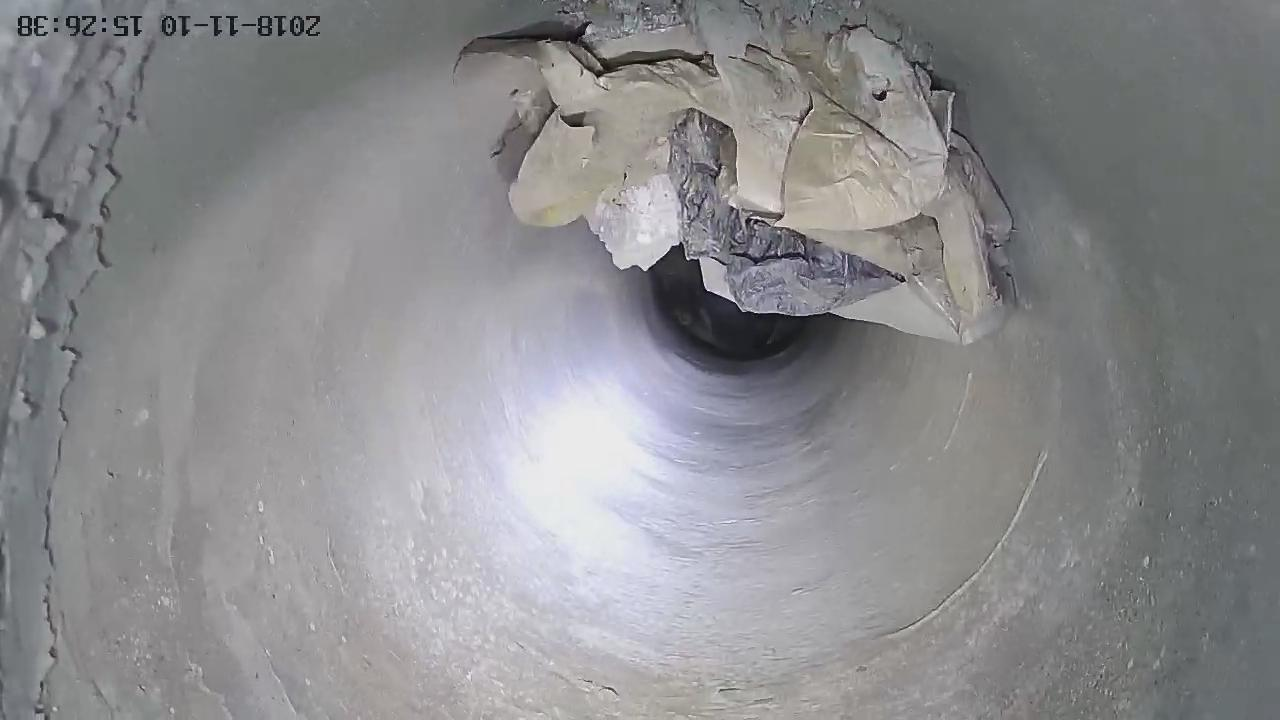ZAW: (456, 1, 1012, 343)
